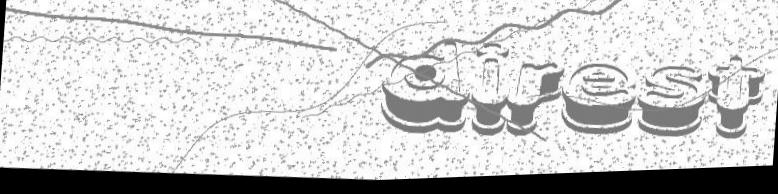d: (370, 34, 473, 143)
e: (560, 59, 641, 150)
i: (462, 40, 513, 144)
r: (506, 61, 569, 144)
s: (634, 65, 714, 151)
t: (701, 54, 772, 153)
